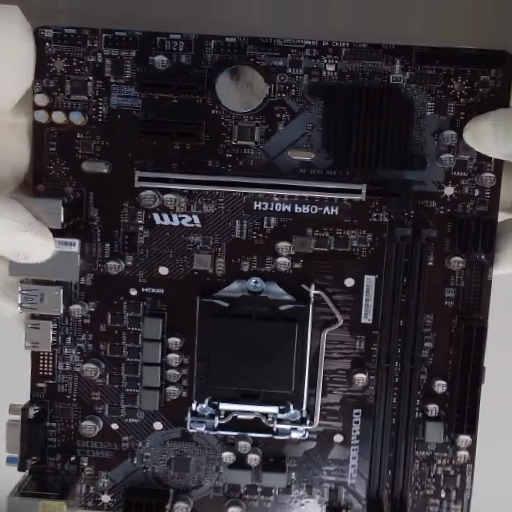CPU: (187, 278, 315, 440)
GPU: (134, 172, 411, 207)
MOTHERBOARD: (31, 27, 503, 512)
RAM: (367, 222, 439, 512)
